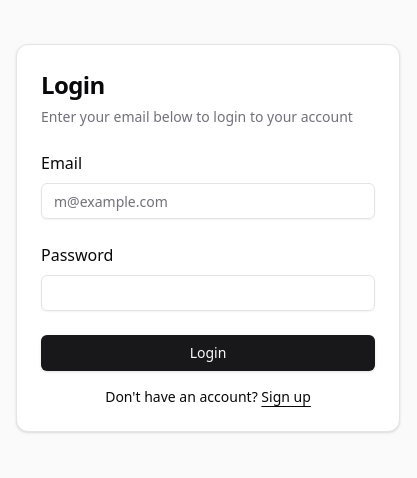
Test case: LoginPage › shows validation errors when inputs are empty
Step 1. Click the button "Login" → (208, 353), box top-left (41, 335), bottom-right (375, 371)
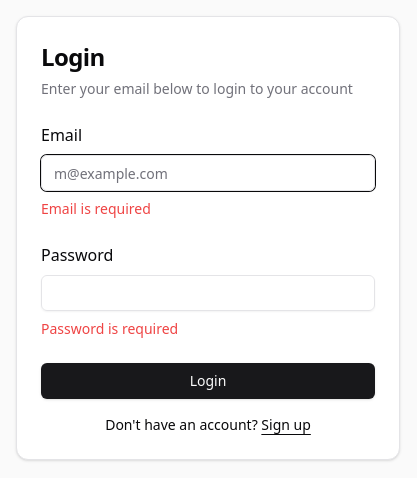
Result: the text "Email is required" is shown at top-left (41, 199), bottom-right (151, 218)
Result: the text "Password is required" is shown at top-left (41, 319), bottom-right (178, 338)
